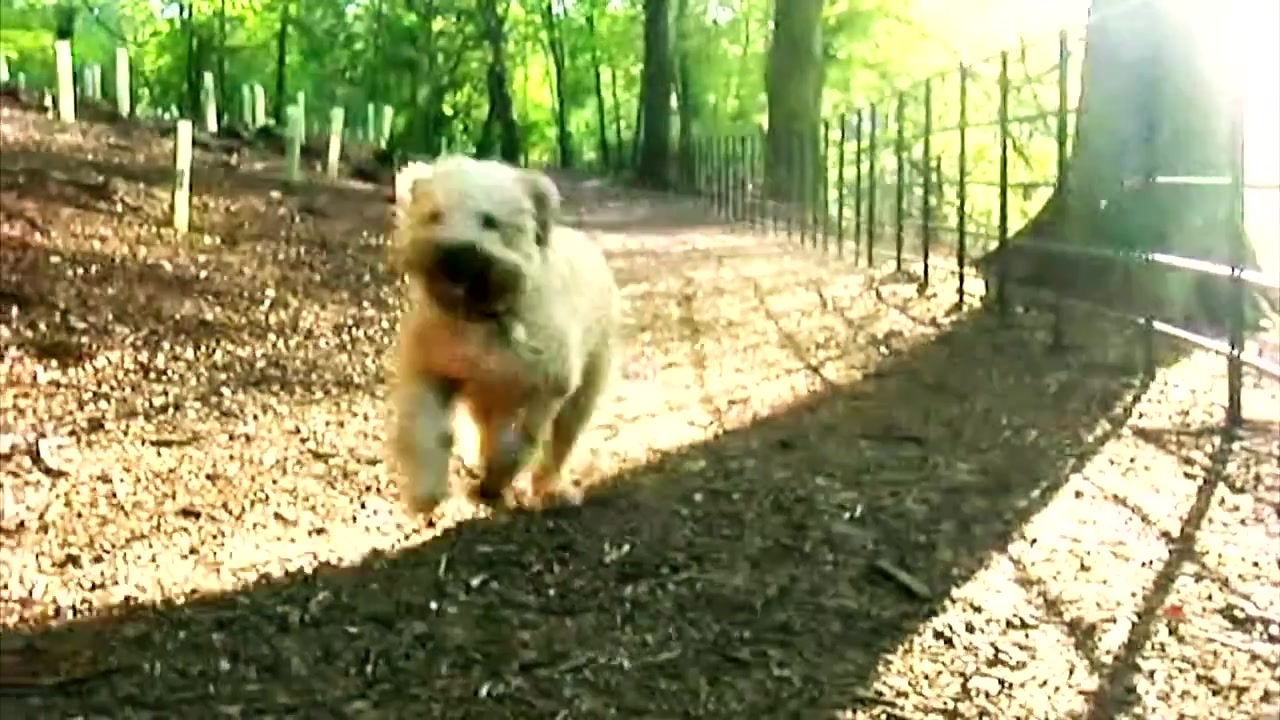dog: (388, 153, 624, 522)
